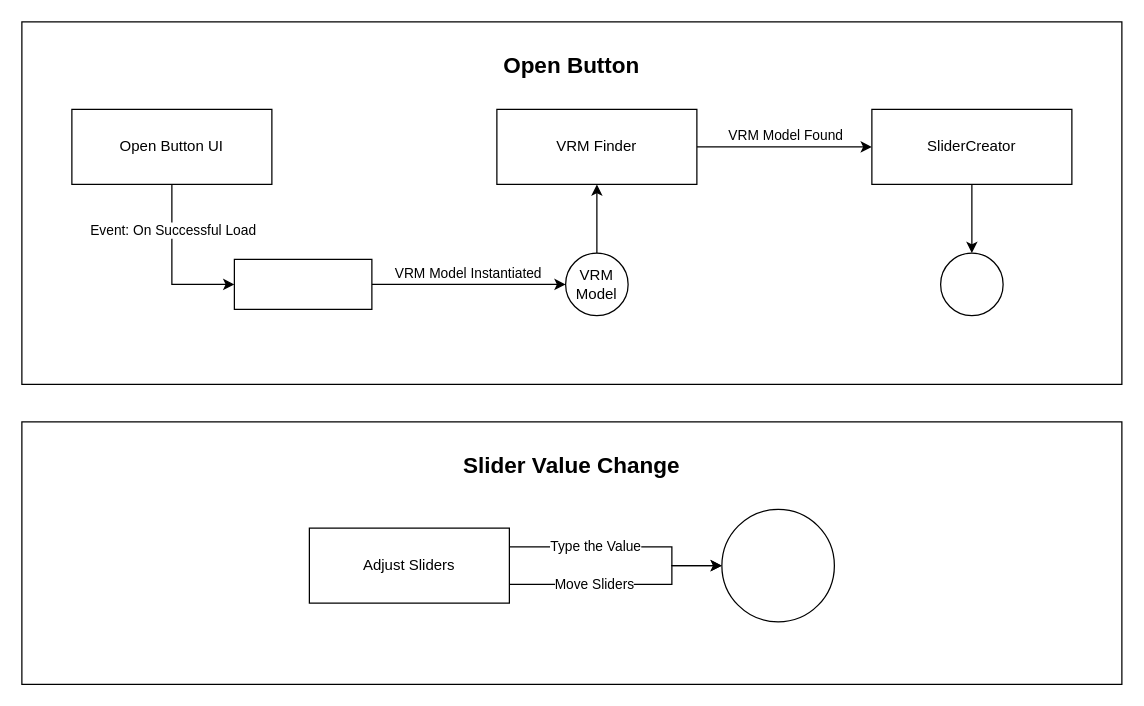
Image size: 1144x706. Some labels were removed from this diagram. The shapes that lost their labels are listed below. From the top down, each one's centre as x and y in pixels, then its label:
(x=302, y=283): VRM Importer
(x=971, y=284): Sliders
(x=777, y=565): Blendshapes Values
